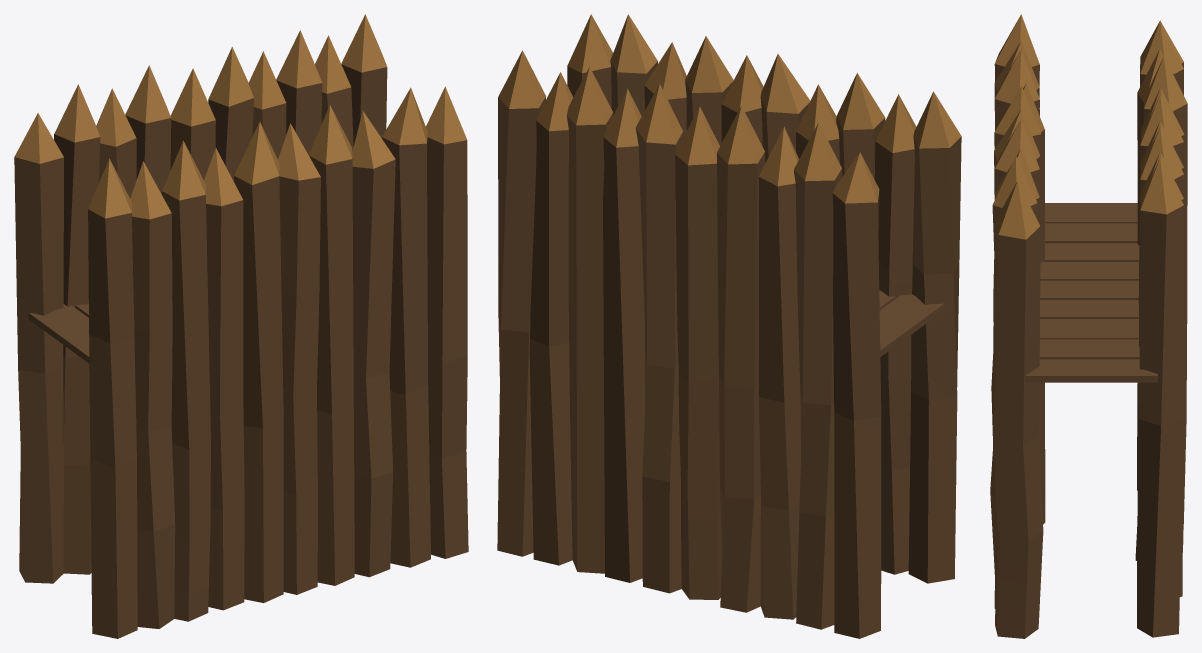
The model's file is medieval_wall-medieval-wood.fbx.
3 views of the same model, side by side, from view 1: azimuth 30°, elevation 25°; view 2: azimuth 150°, elevation 25°; view 3: azimuth 270°, elevation 25° (orthographic). The views are drawn at different scales.
Parts seen in each view (by area): view 1: medieval_wall_medieval_wood; view 2: medieval_wall_medieval_wood; view 3: medieval_wall_medieval_wood.
Boxes of the visible parts, x1,y1,x2,y2 form: medieval_wall_medieval_wood: (14, 14, 468, 638); medieval_wall_medieval_wood: (497, 14, 961, 638); medieval_wall_medieval_wood: (990, 14, 1187, 638).
Size of the model in its own units: 162 by 200 by 76.25.
